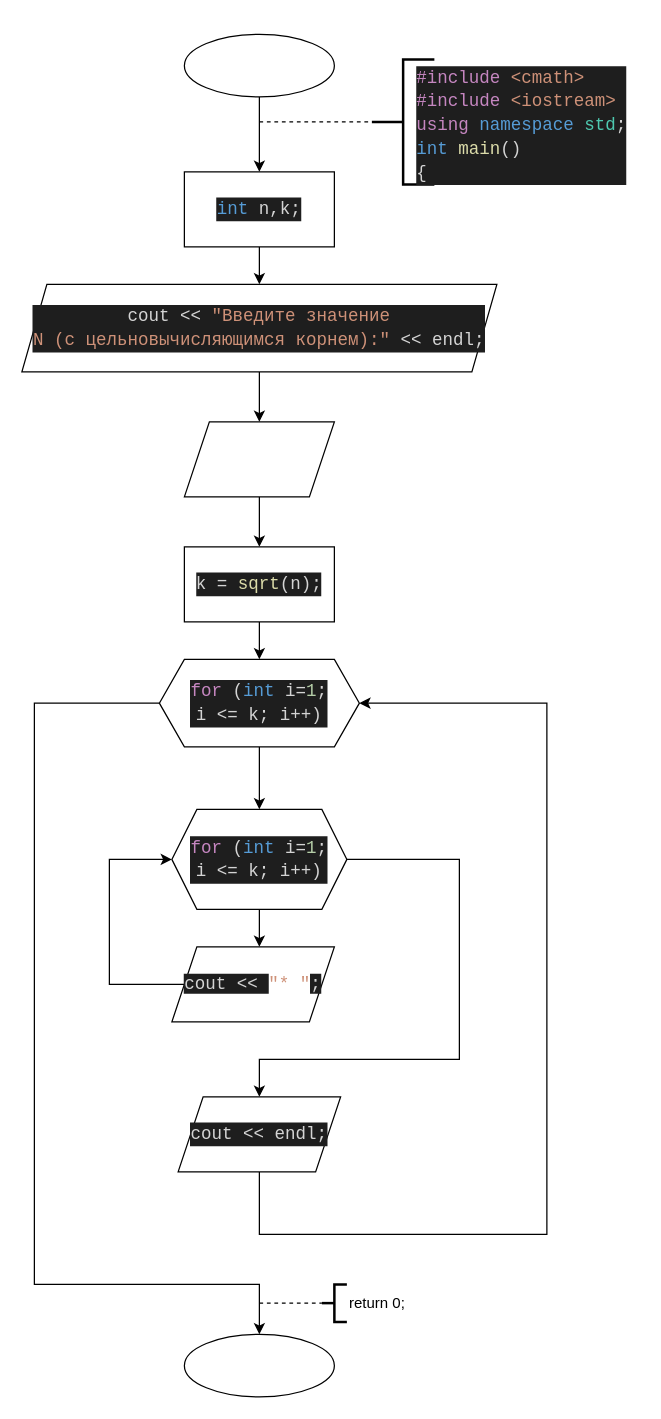
Some shapes in this 661 by 1419 pixel diagram are drawn without their labels. The shapes that lost their labels are listed below. From the top down, each one's box as (x1, y1, x2, y2) in pixels, then its label:
(183, 33, 334, 97): Запуск
(183, 421, 334, 497): cin >> n;
(183, 1333, 334, 1397): Конец
